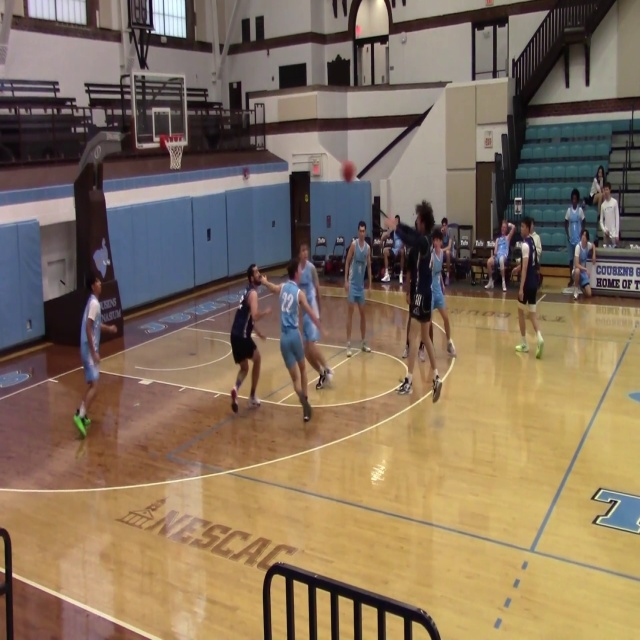Basketball: (341, 161, 356, 182)
